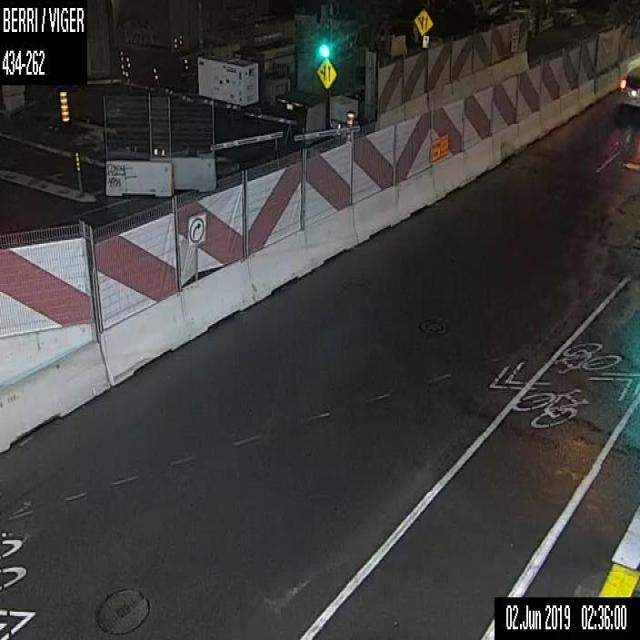construction: (58, 89, 69, 128), (344, 107, 354, 143)
vehicle: (618, 62, 639, 110)
